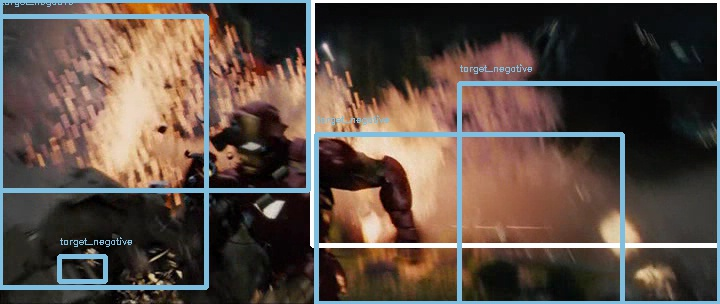person: (233, 103, 279, 171), (232, 103, 278, 171), (234, 103, 280, 171), (233, 102, 279, 170), (233, 104, 279, 172)
target_negative: (348, 82, 687, 277), (11, 8, 650, 90), (210, 54, 397, 227), (252, 58, 387, 234), (37, 263, 109, 293), (562, 18, 683, 22)
